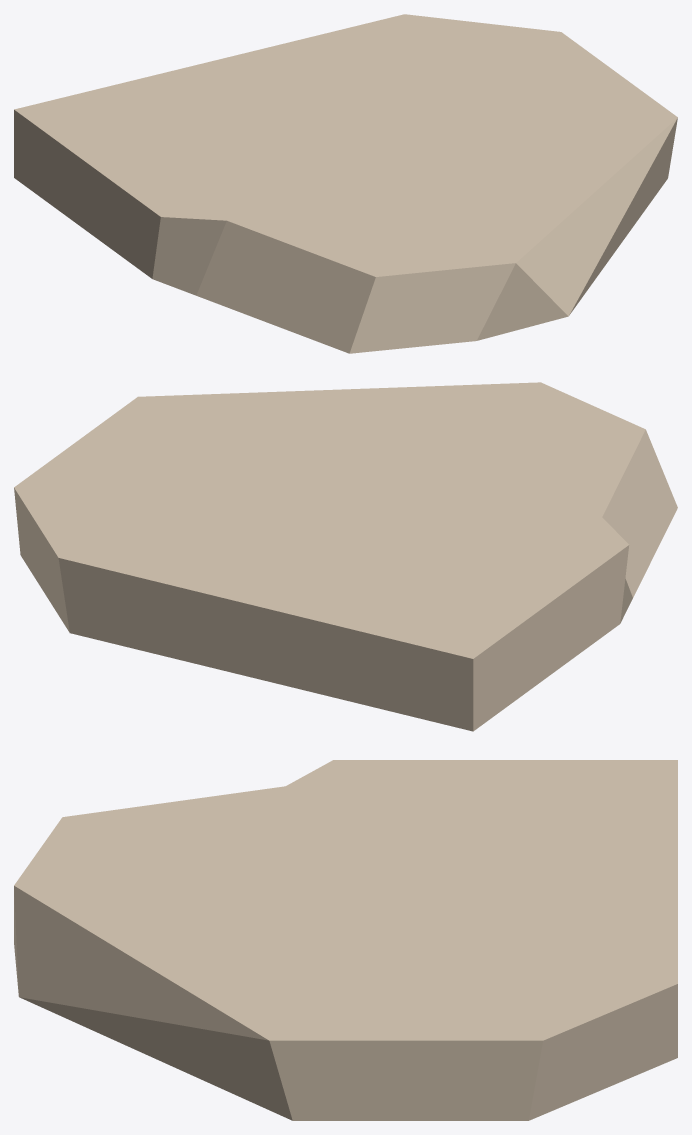
The model's file is Broken_Ceiling_003.fbx.
3 views of the same model, one above another, from view 1: azimuth 30°, elevation 25°; view 2: azimuth 150°, elevation 25°; view 3: azimuth 270°, elevation 25° (orthographic). The views are drawn at different scales.
Visible parts, largest first — view 1: Broken_Ceilling_003; view 2: Broken_Ceilling_003; view 3: Broken_Ceilling_003.
Boxes of the visible parts, x1=… form: Broken_Ceilling_003: x1=14, y1=14, x2=677, y2=353; Broken_Ceilling_003: x1=14, y1=382, x2=677, y2=731; Broken_Ceilling_003: x1=14, y1=760, x2=677, y2=1120.
Size of the model in its own units: 3 by 0.4 by 3.
